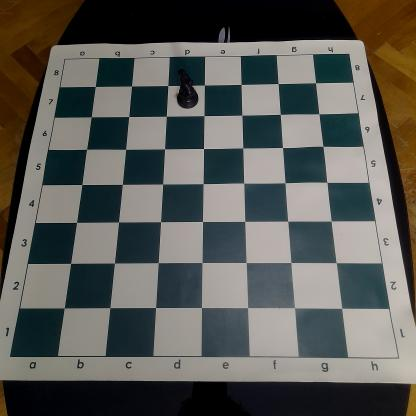black-knight: (174, 68, 200, 109)
